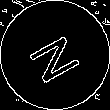N_NE: (23, 25, 87, 85)
